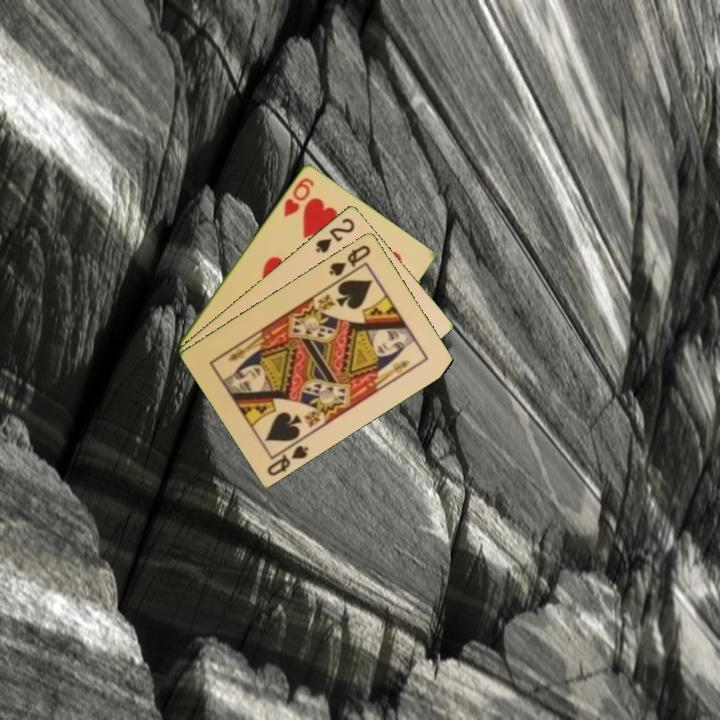2s: (312, 214, 358, 256)
6h: (280, 173, 317, 219)
Qs: (264, 441, 312, 479), (326, 241, 373, 279)
